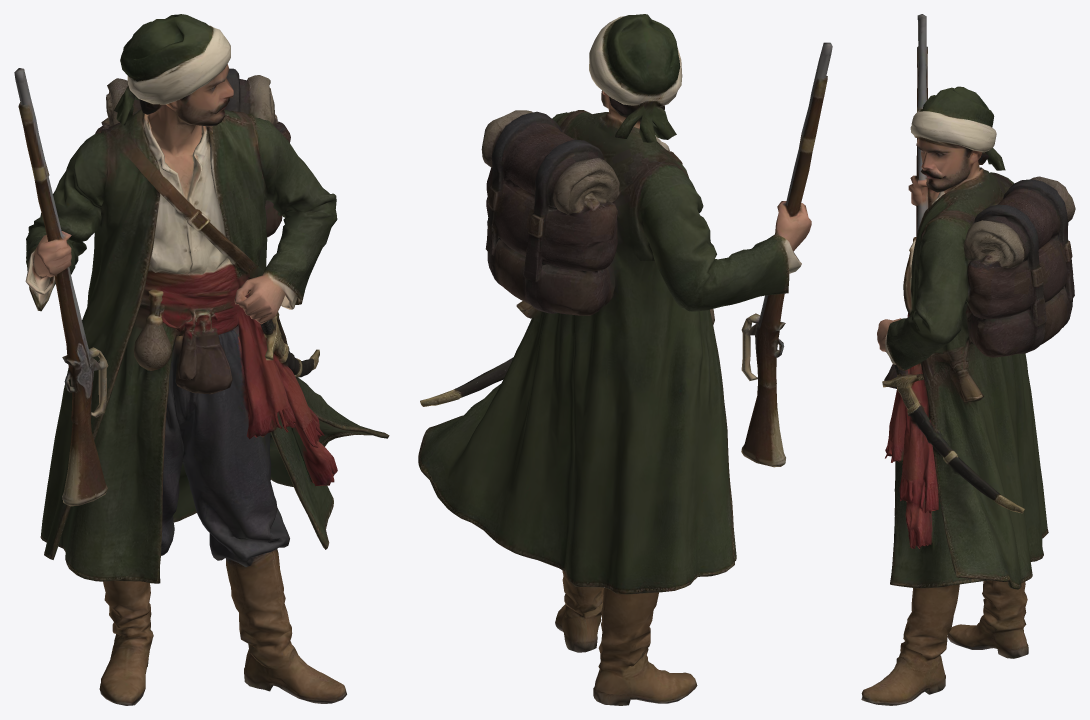
File: besli-kale-askeri-1550-1600-tripo-v2.glb
3 views of the same model, side by side, from view 1: azimuth 30°, elevation 25°; view 2: azimuth 150°, elevation 25°; view 3: azimuth 270°, elevation 25° (orthographic). The views are drawn at different scales.
Visible parts, largest first — view 1: tripo_node_ef24fe7d-cfb0-4bc6-99d8-e820d8dd35f7; view 2: tripo_node_ef24fe7d-cfb0-4bc6-99d8-e820d8dd35f7; view 3: tripo_node_ef24fe7d-cfb0-4bc6-99d8-e820d8dd35f7.
Boxes of the visible parts, x1,y1,x2,y2 form: tripo_node_ef24fe7d-cfb0-4bc6-99d8-e820d8dd35f7: [14, 14, 389, 705]; tripo_node_ef24fe7d-cfb0-4bc6-99d8-e820d8dd35f7: [418, 14, 832, 705]; tripo_node_ef24fe7d-cfb0-4bc6-99d8-e820d8dd35f7: [861, 14, 1075, 705].
Bounding box in the file's own units: 0.6075 × 1 × 0.3385.
Materials: 1 (1 with a texture image).
